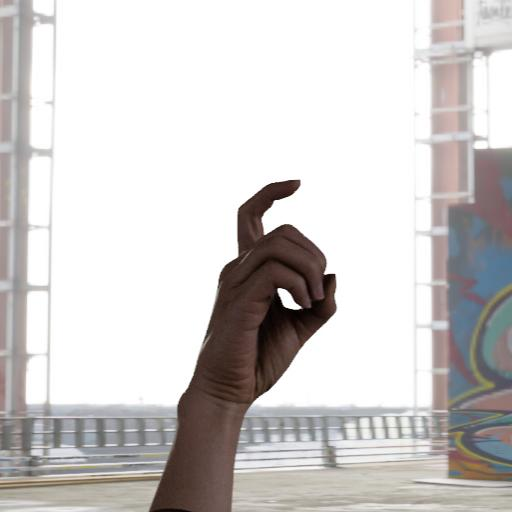X: (188, 171, 340, 402)
